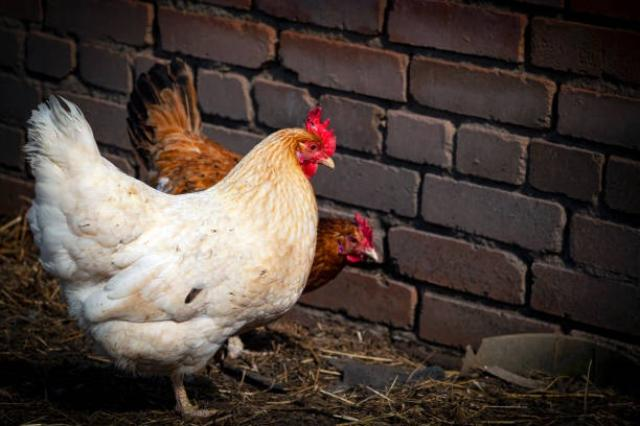Chicken: (24, 92, 336, 418), (127, 60, 378, 293)
